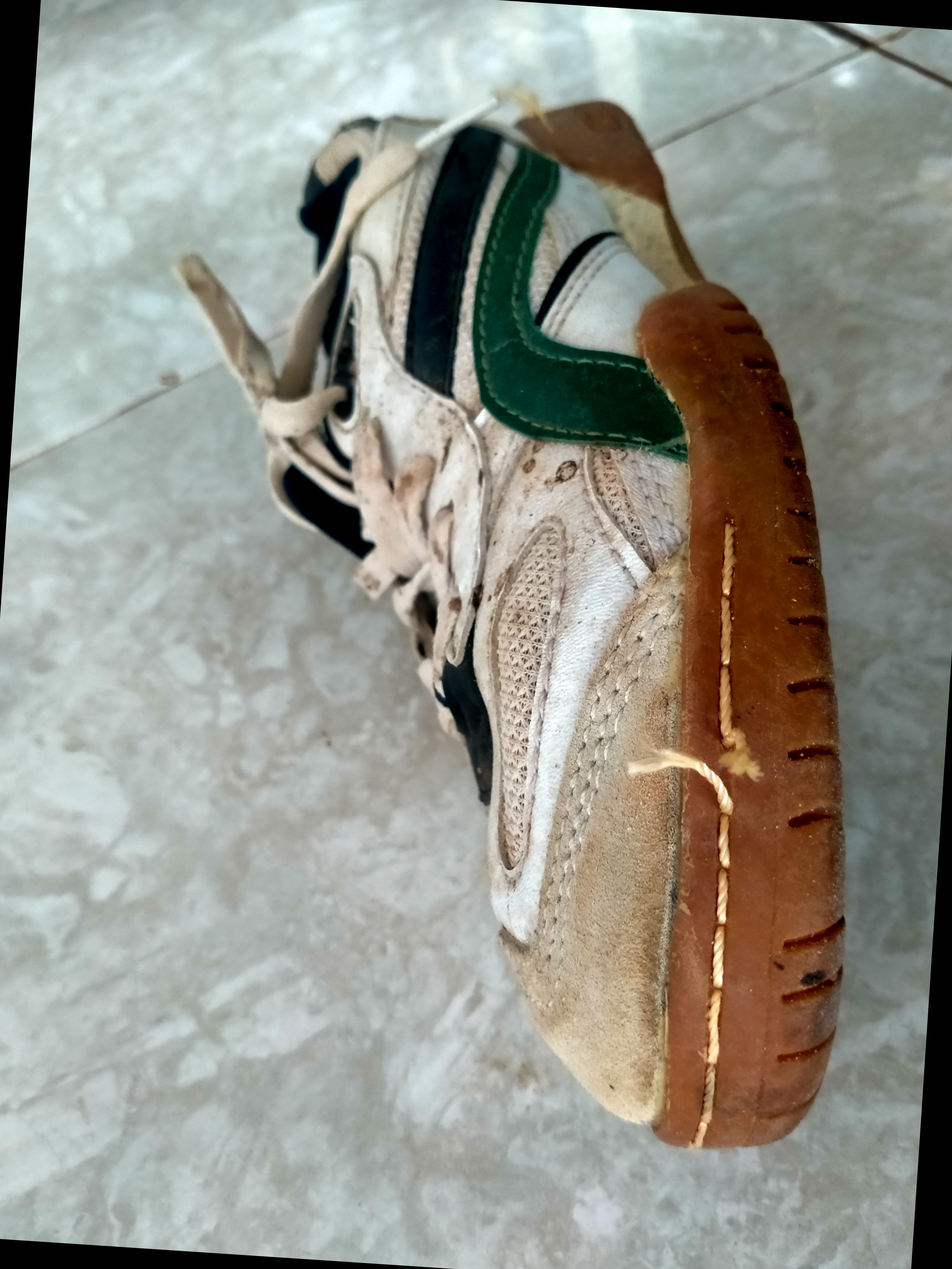broken: (685, 715, 764, 828)
